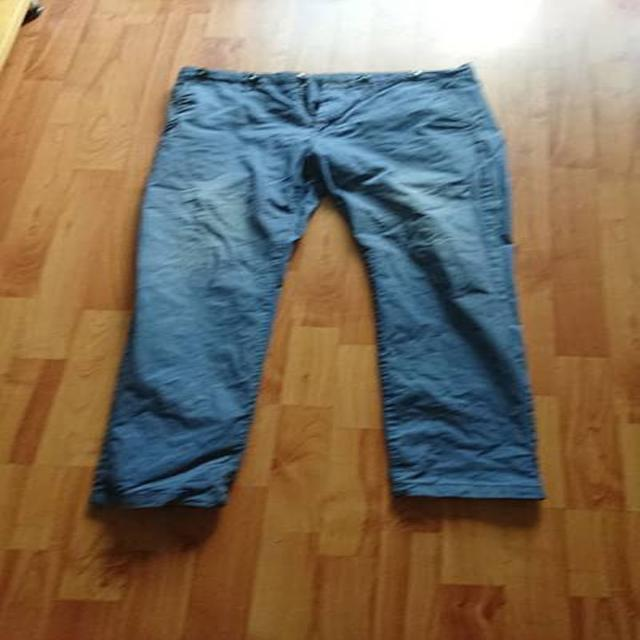TROUSER: (83, 38, 559, 516)
